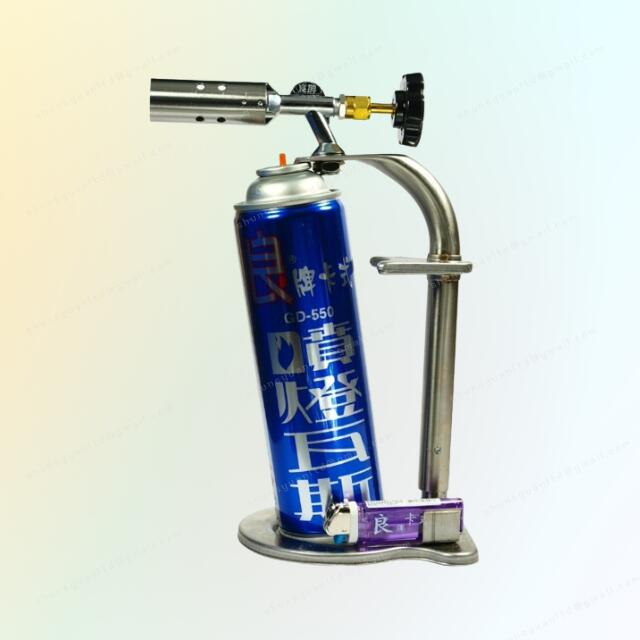gastorch: (147, 70, 490, 569)
